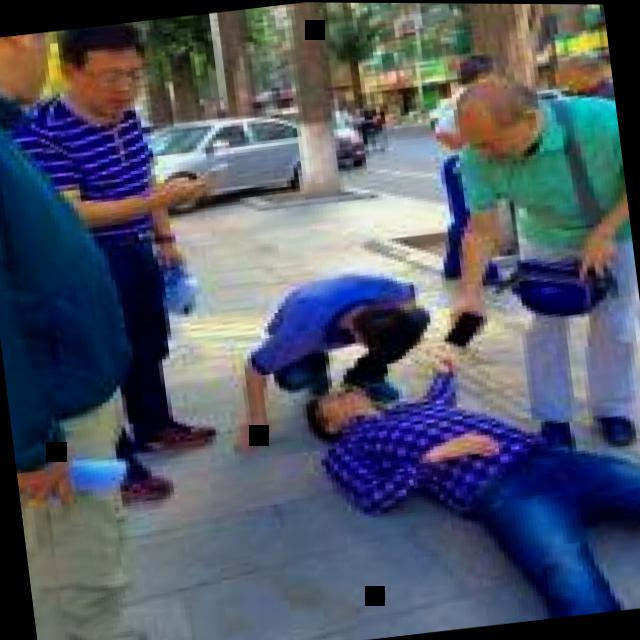Fall-Detected: (283, 312, 640, 640)
